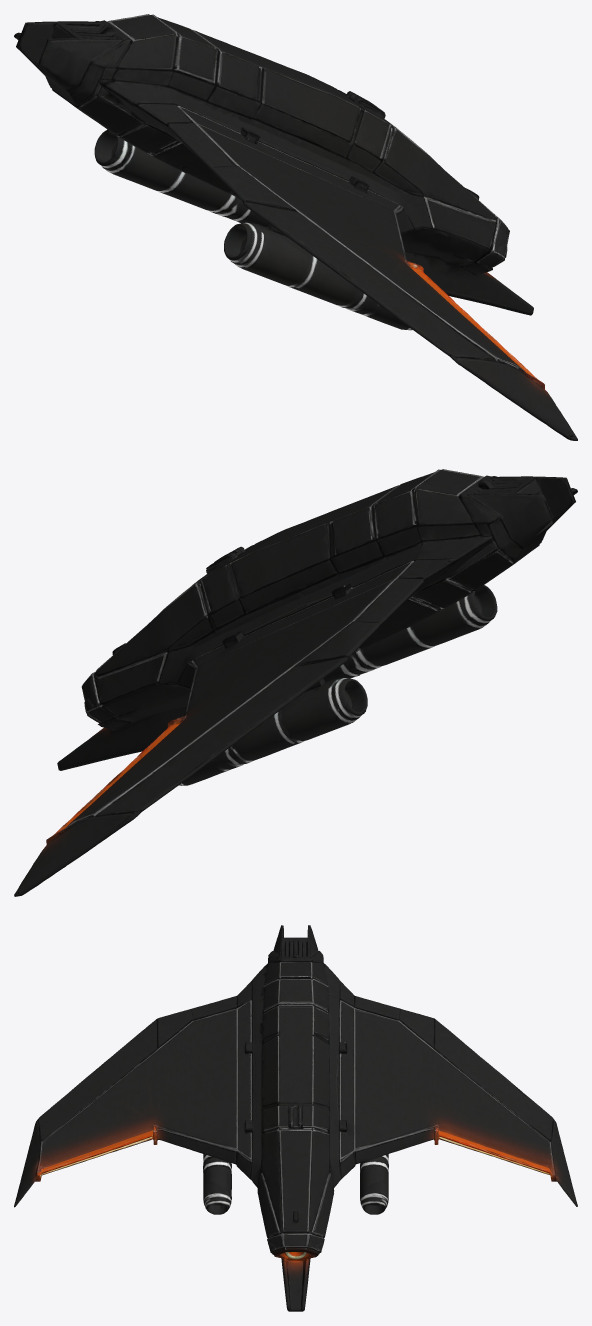
File: Enemigo2.glb
3 renders of one model, top to bottom at view 1: azimuth 30°, elevation 25°; view 2: azimuth 150°, elevation 25°; view 3: azimuth 270°, elevation 25°, orthographic. The views are drawn at different scales.
Visible parts, largest first — view 1: tripo_node_8d6d889b-82ed-4767-998a-a60b2fb7a98e; view 2: tripo_node_8d6d889b-82ed-4767-998a-a60b2fb7a98e; view 3: tripo_node_8d6d889b-82ed-4767-998a-a60b2fb7a98e.
Boxes of the visible parts, box(x1,y1,x2,y2) form: tripo_node_8d6d889b-82ed-4767-998a-a60b2fb7a98e: box(14, 14, 577, 440); tripo_node_8d6d889b-82ed-4767-998a-a60b2fb7a98e: box(14, 469, 577, 896); tripo_node_8d6d889b-82ed-4767-998a-a60b2fb7a98e: box(14, 925, 577, 1311).
Bounding box in the file's own units: 0.6095 × 0.4644 × 0.9815.
Materials: 1 (1 with a texture image).
